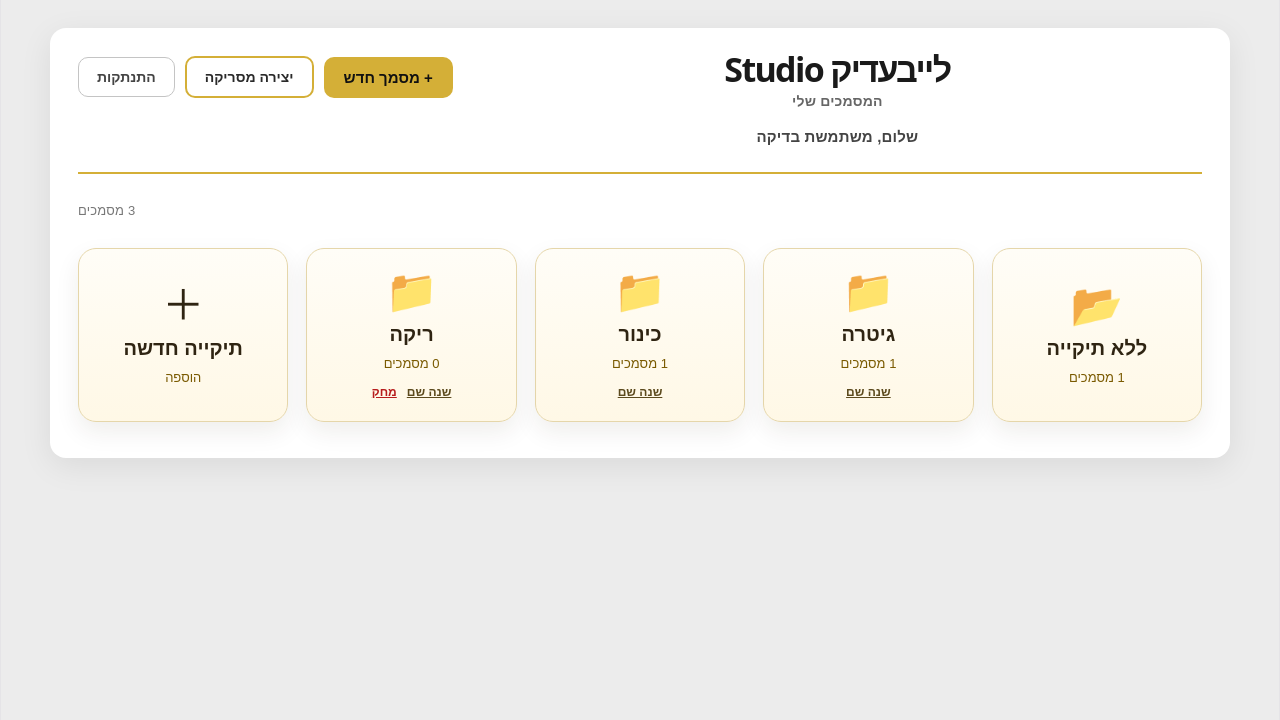
Test: DocumentsHome › מסמכים בלי folderId מופיעים תחת ללא תיקייה
The image size is (1280, 720).
Step 1. Click the button "📂 ללא תיקייה 1 מסמכים" → x=1097, y=335, box [992,248,1202,422]
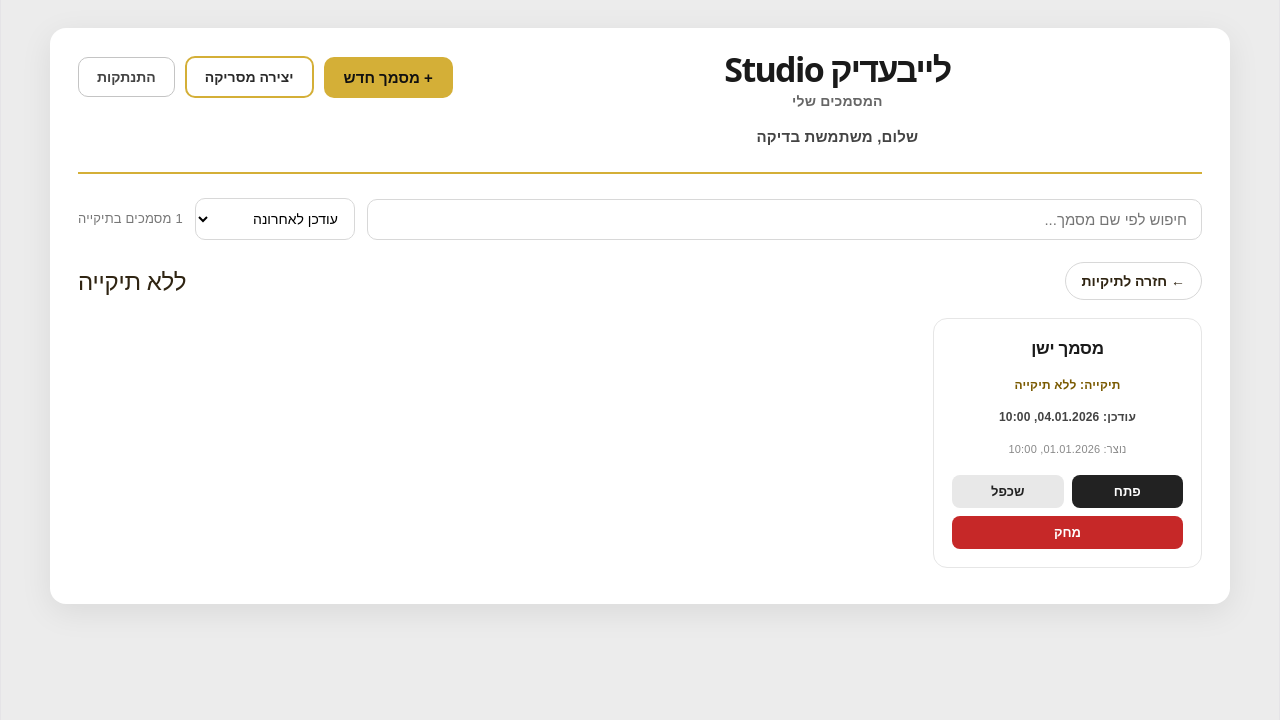
expect the heading "מסמך ישן" is shown: met, box [1031,336,1104,359]
